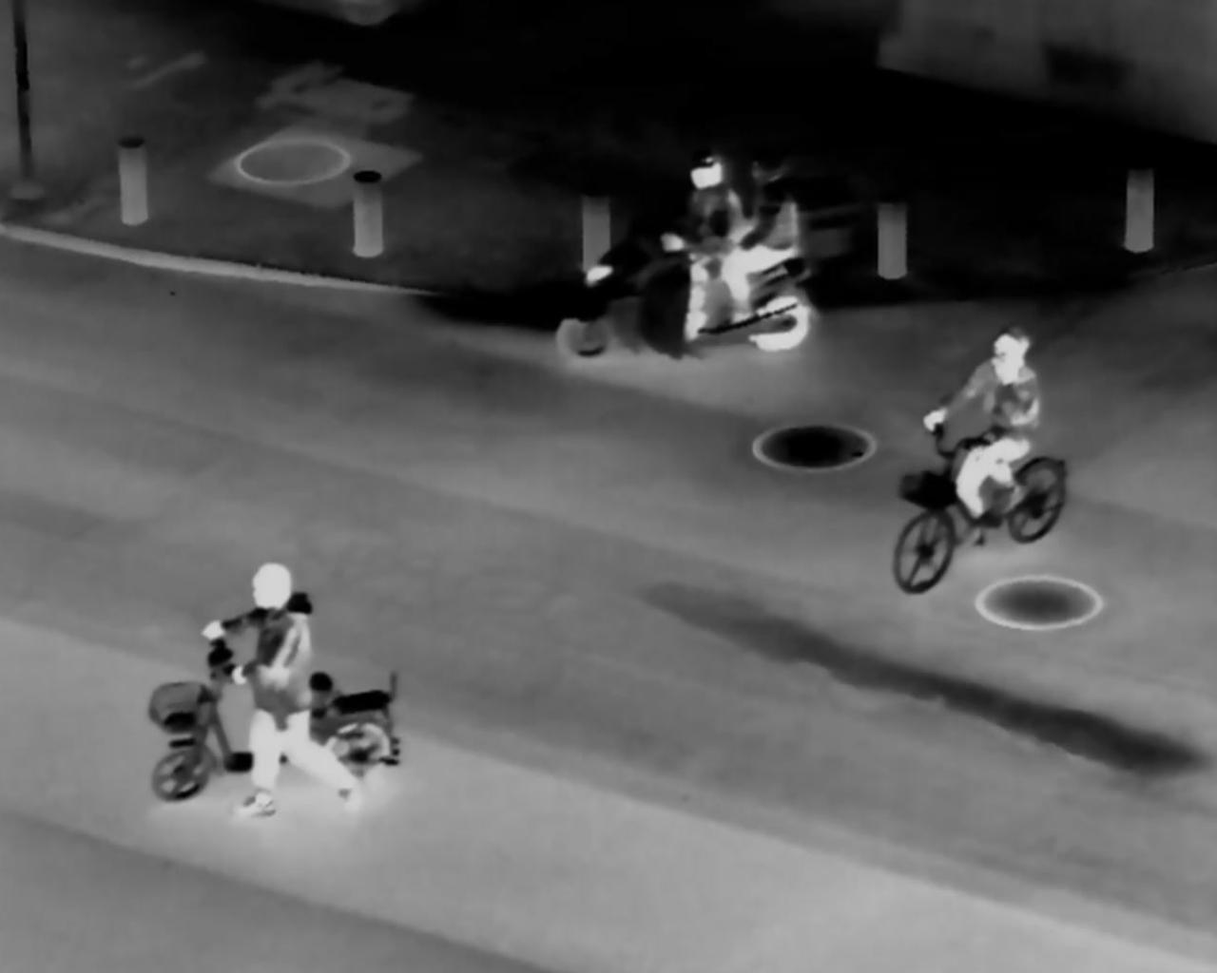person: (209, 557, 365, 817), (932, 312, 1035, 562), (659, 149, 737, 330), (734, 146, 808, 318)
